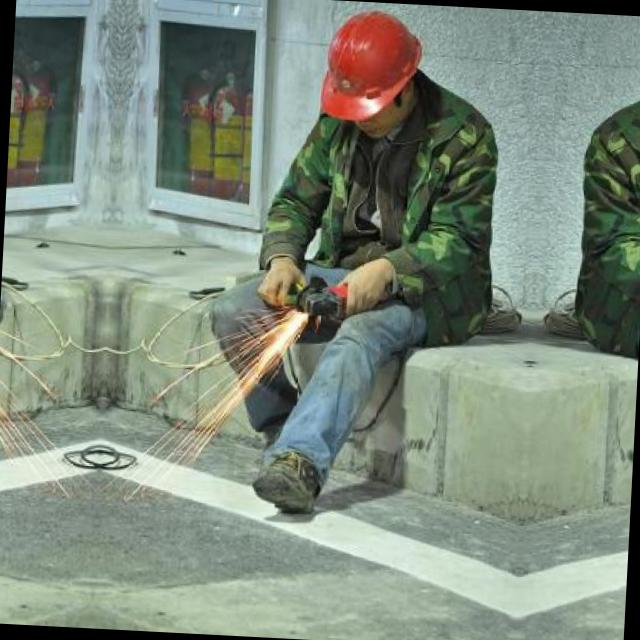helmet: (304, 2, 433, 150)
